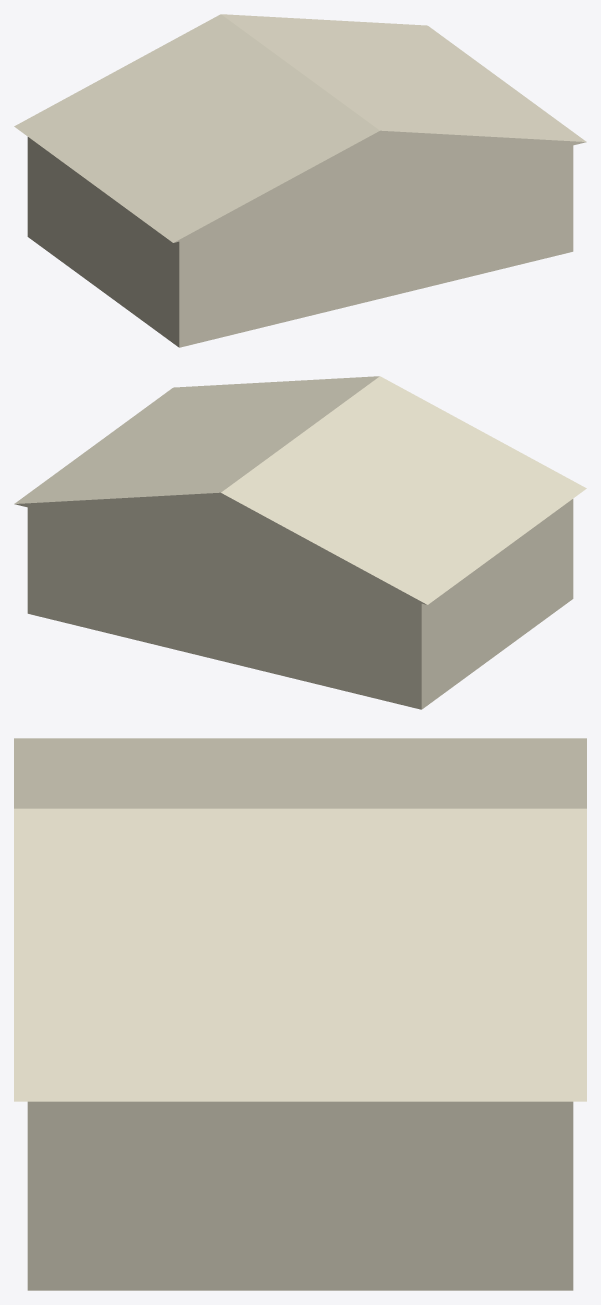
File: marquee.glb
3 renders of one model, top to bottom at view 1: azimuth 30°, elevation 25°; view 2: azimuth 150°, elevation 25°; view 3: azimuth 270°, elevation 25°, orthographic. The views are drawn at different scales.
Visible parts, largest first — view 1: Roof, Body; view 2: Roof, Body; view 3: Roof, Body.
Part boxes in pixels (bbox=[...]): Roof: bbox=[14, 14, 586, 242]; Body: bbox=[27, 137, 573, 347]; Roof: bbox=[14, 376, 586, 604]; Body: bbox=[27, 499, 573, 709]; Roof: bbox=[14, 738, 586, 1101]; Body: bbox=[27, 1101, 573, 1290].
Bounding box in the file's own units: 12.6 × 5 × 8.4.
